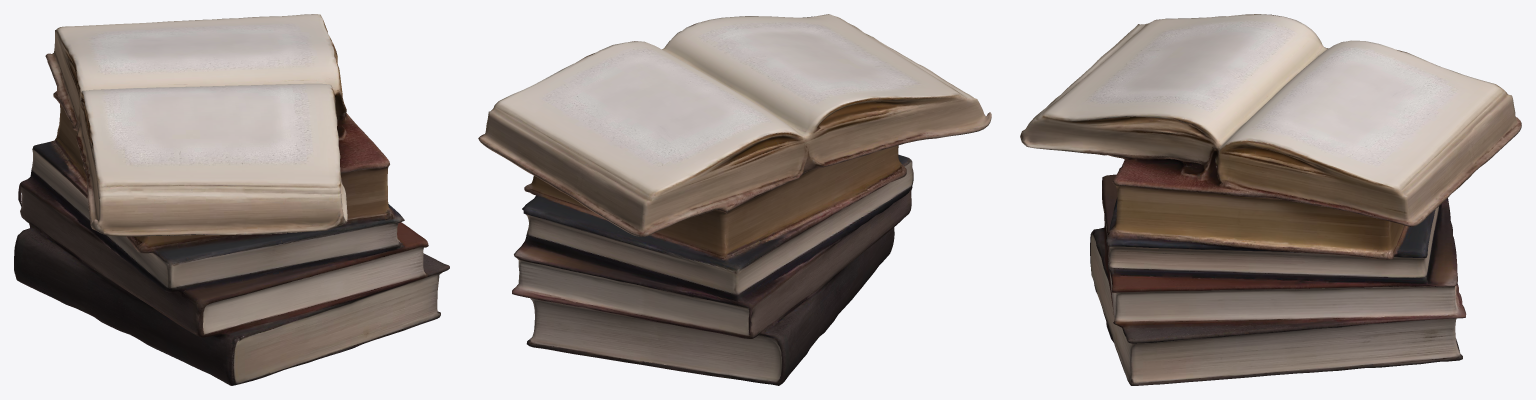
File: chapel_book.glb
3 views of the same model, side by side, from view 1: azimuth 30°, elevation 25°; view 2: azimuth 150°, elevation 25°; view 3: azimuth 270°, elevation 25° (orthographic).
Visible parts, largest first — view 1: tripo_node_08401dd0; view 2: tripo_node_08401dd0; view 3: tripo_node_08401dd0.
Part boxes in pixels (bbox=[...]): tripo_node_08401dd0: bbox=[14, 14, 449, 385]; tripo_node_08401dd0: bbox=[478, 14, 991, 385]; tripo_node_08401dd0: bbox=[1020, 14, 1521, 385].
Size of the model in its own units: 84.78 by 51.37 by 99.51.
1 material, 1 textured.
